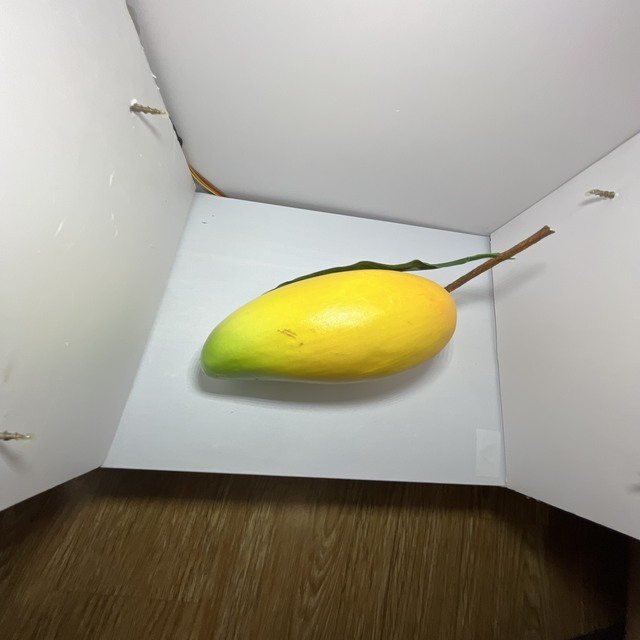Xoai: (171, 214, 484, 464)
